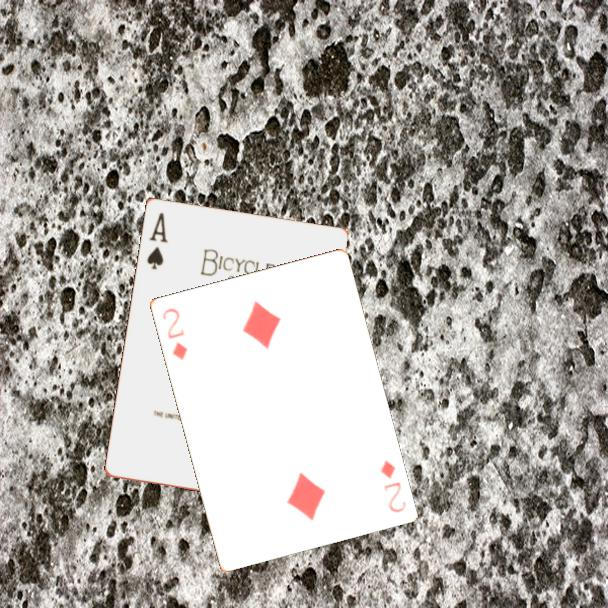d02: (158, 304, 190, 363), (377, 457, 409, 515)
s01: (143, 208, 170, 272)
